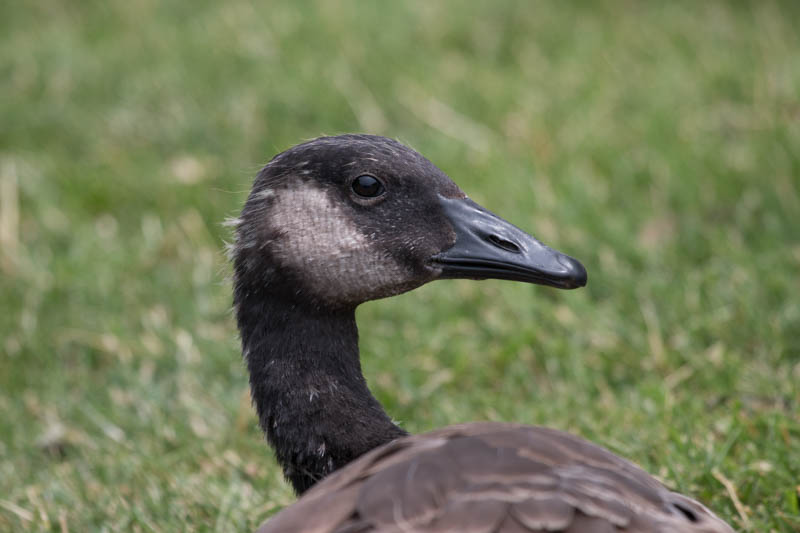goose-head: (232, 130, 588, 307)
